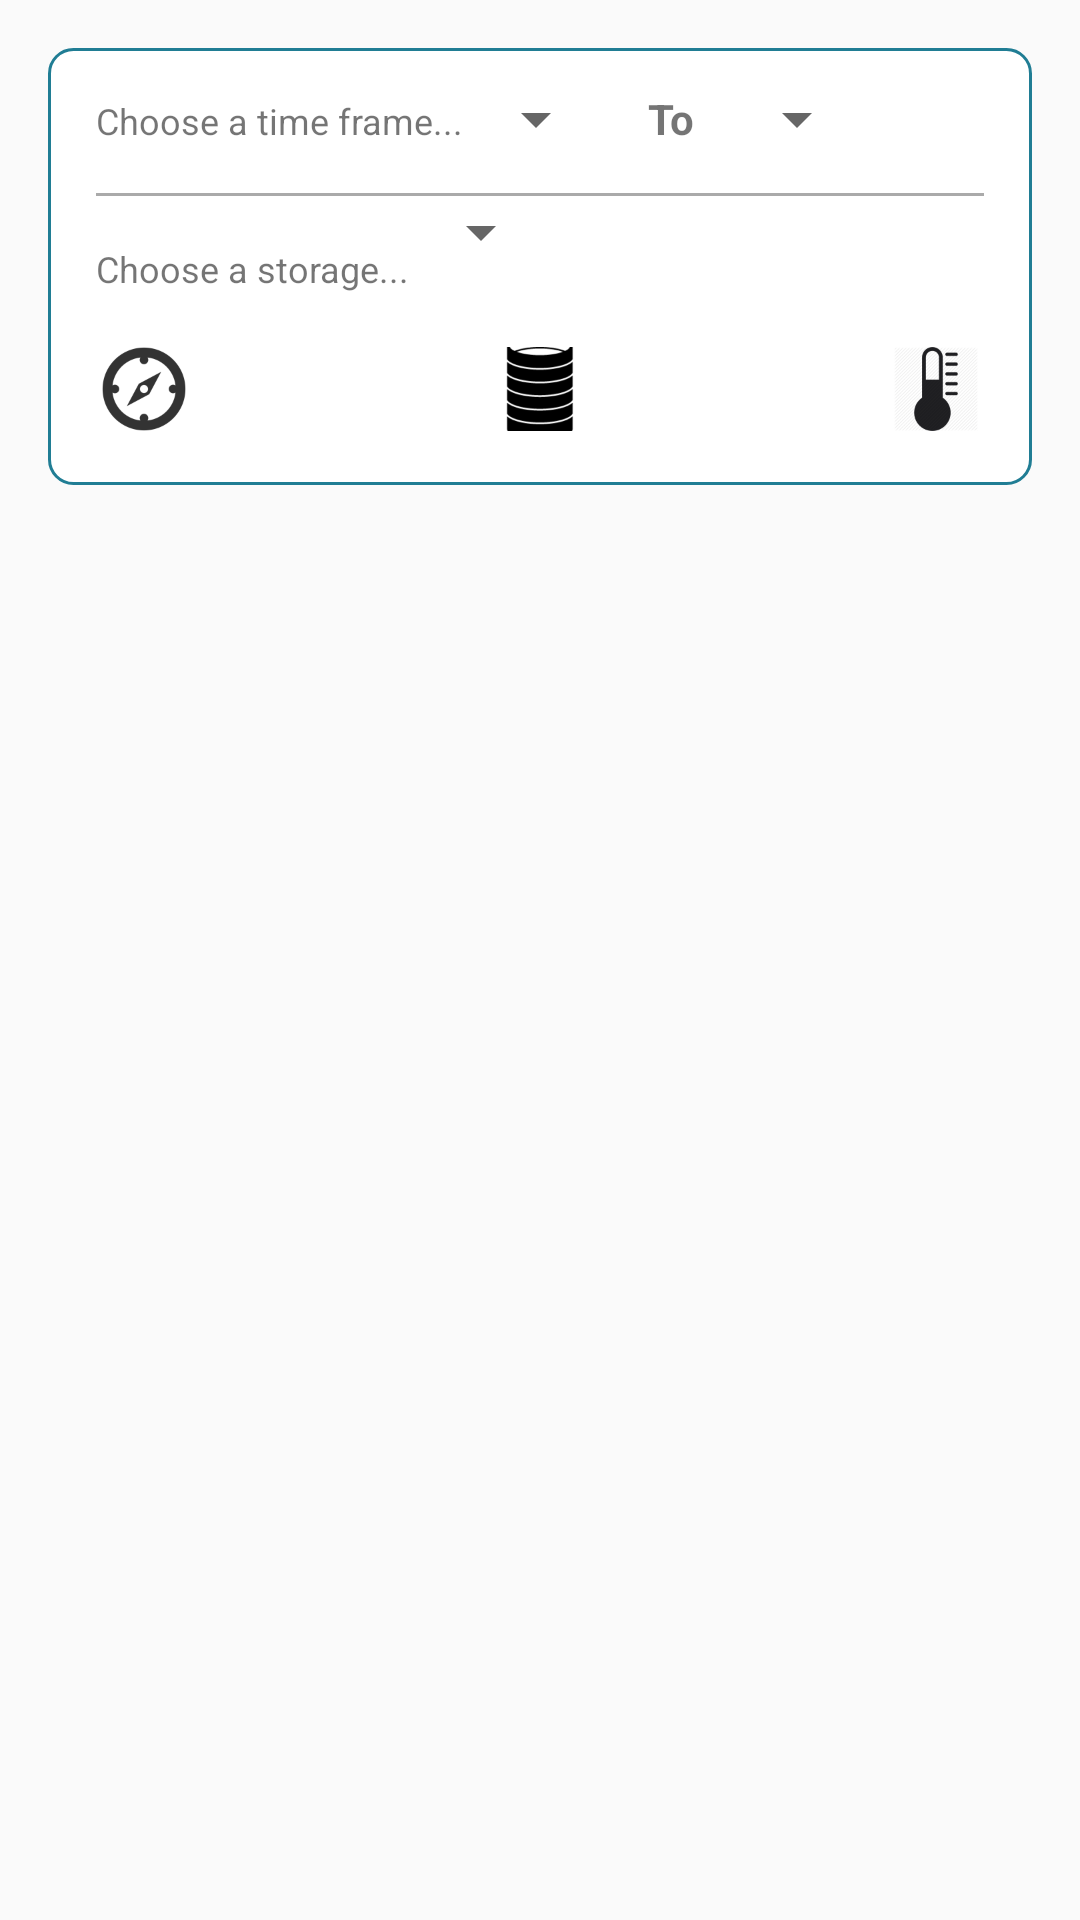

Icon click points for this 1080 x 1920 phone screenshot, format [x,y]:
compass: [144,389]
tank: [539,389]
